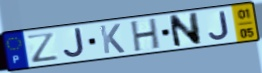H: (130, 17, 162, 54)
J: (62, 27, 87, 60), (207, 10, 231, 41)
K: (98, 23, 127, 56)
N: (167, 11, 203, 50)
Z: (25, 31, 60, 64)
